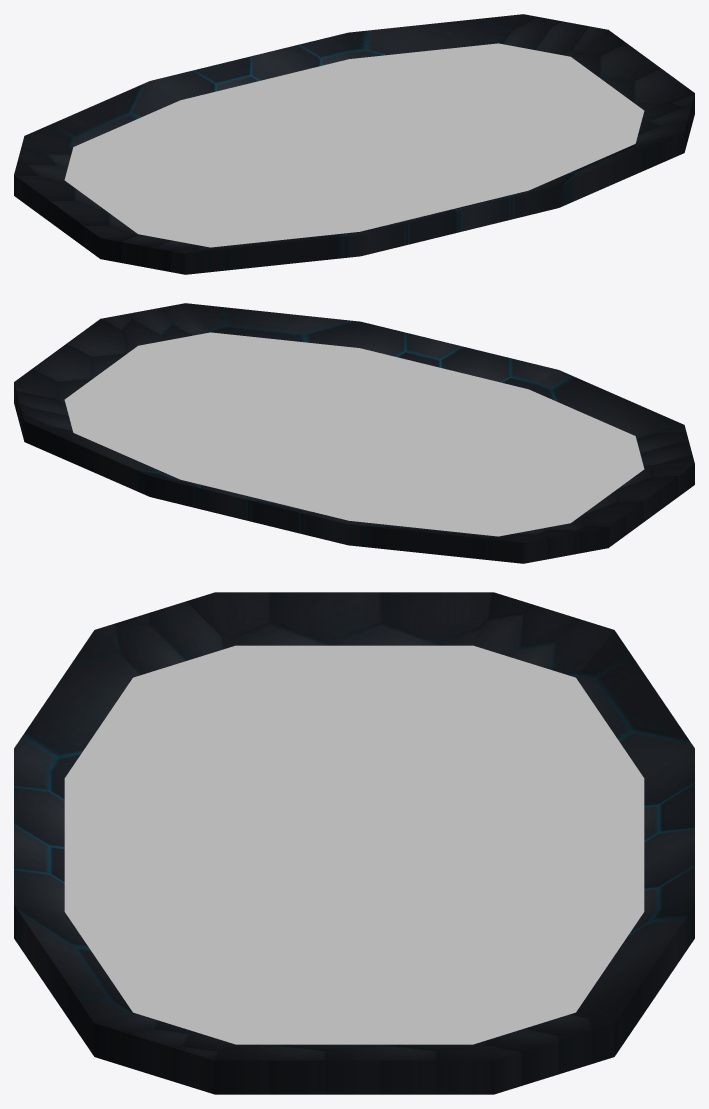
3 views of the same model, one above another, from view 1: azimuth 30°, elevation 25°; view 2: azimuth 150°, elevation 25°; view 3: azimuth 270°, elevation 25° (orthographic). The views are drawn at different scales.
Parts seen in each view (by area): view 1: MaterialFBXASC032FBXASC0352142171811, MaterialFBXASC032FBXASC0352142150880; view 2: MaterialFBXASC032FBXASC0352142171811, MaterialFBXASC032FBXASC0352142150880; view 3: MaterialFBXASC032FBXASC0352142171811, MaterialFBXASC032FBXASC0352142150880.
Boxes of the visible parts, <box> form: MaterialFBXASC032FBXASC0352142171811: <box>64,43,644,247</box>; MaterialFBXASC032FBXASC0352142150880: <box>14,14,694,274</box>; MaterialFBXASC032FBXASC0352142171811: <box>64,332,644,536</box>; MaterialFBXASC032FBXASC0352142150880: <box>14,303,694,563</box>; MaterialFBXASC032FBXASC0352142171811: <box>64,645,644,1044</box>; MaterialFBXASC032FBXASC0352142150880: <box>14,592,694,1094</box>.
Bounding box in the file's own units: 4.62 × 0.1557 × 2.84.
